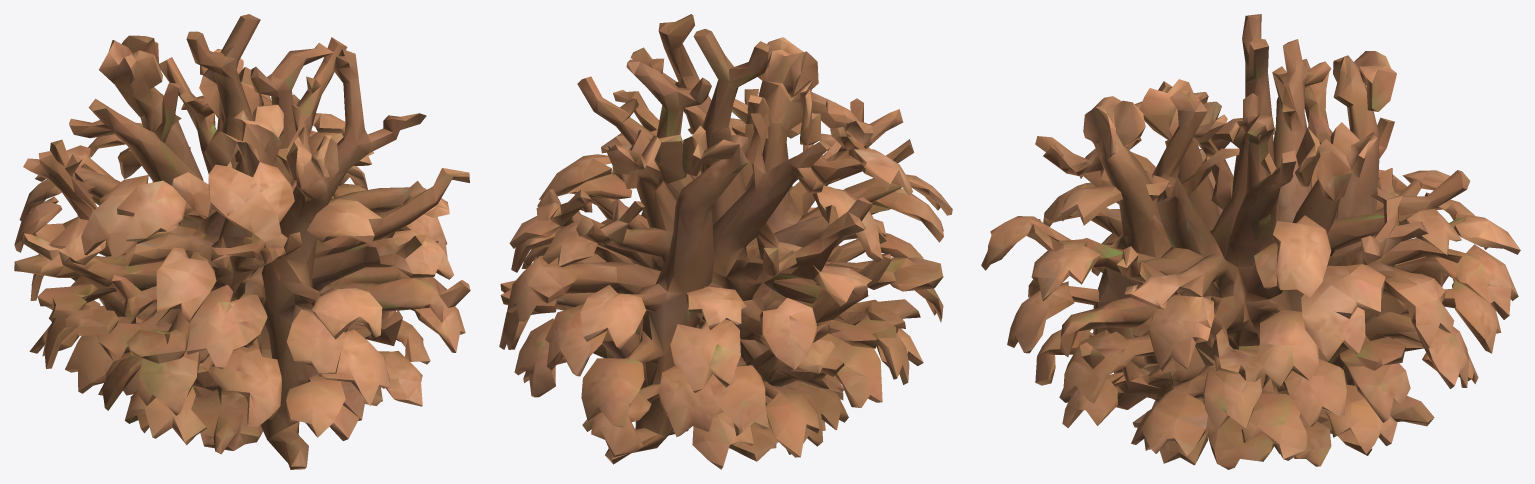
The model's file is arbusto_otono.glb.
3 views of the same model, side by side, from view 1: azimuth 30°, elevation 25°; view 2: azimuth 150°, elevation 25°; view 3: azimuth 270°, elevation 25° (orthographic).
Parts seen in each view (by area): view 1: arbusto_otono_malla; view 2: arbusto_otono_malla; view 3: arbusto_otono_malla.
Boxes of the visible parts, x1,y1,x2,y2 form: arbusto_otono_malla: (14,14,470,469); arbusto_otono_malla: (499,14,952,469); arbusto_otono_malla: (981,14,1520,469).
Size of the model in its own units: 0.1764 by 0.1755 by 0.2215.
Materials: 1 (1 with a texture image).
